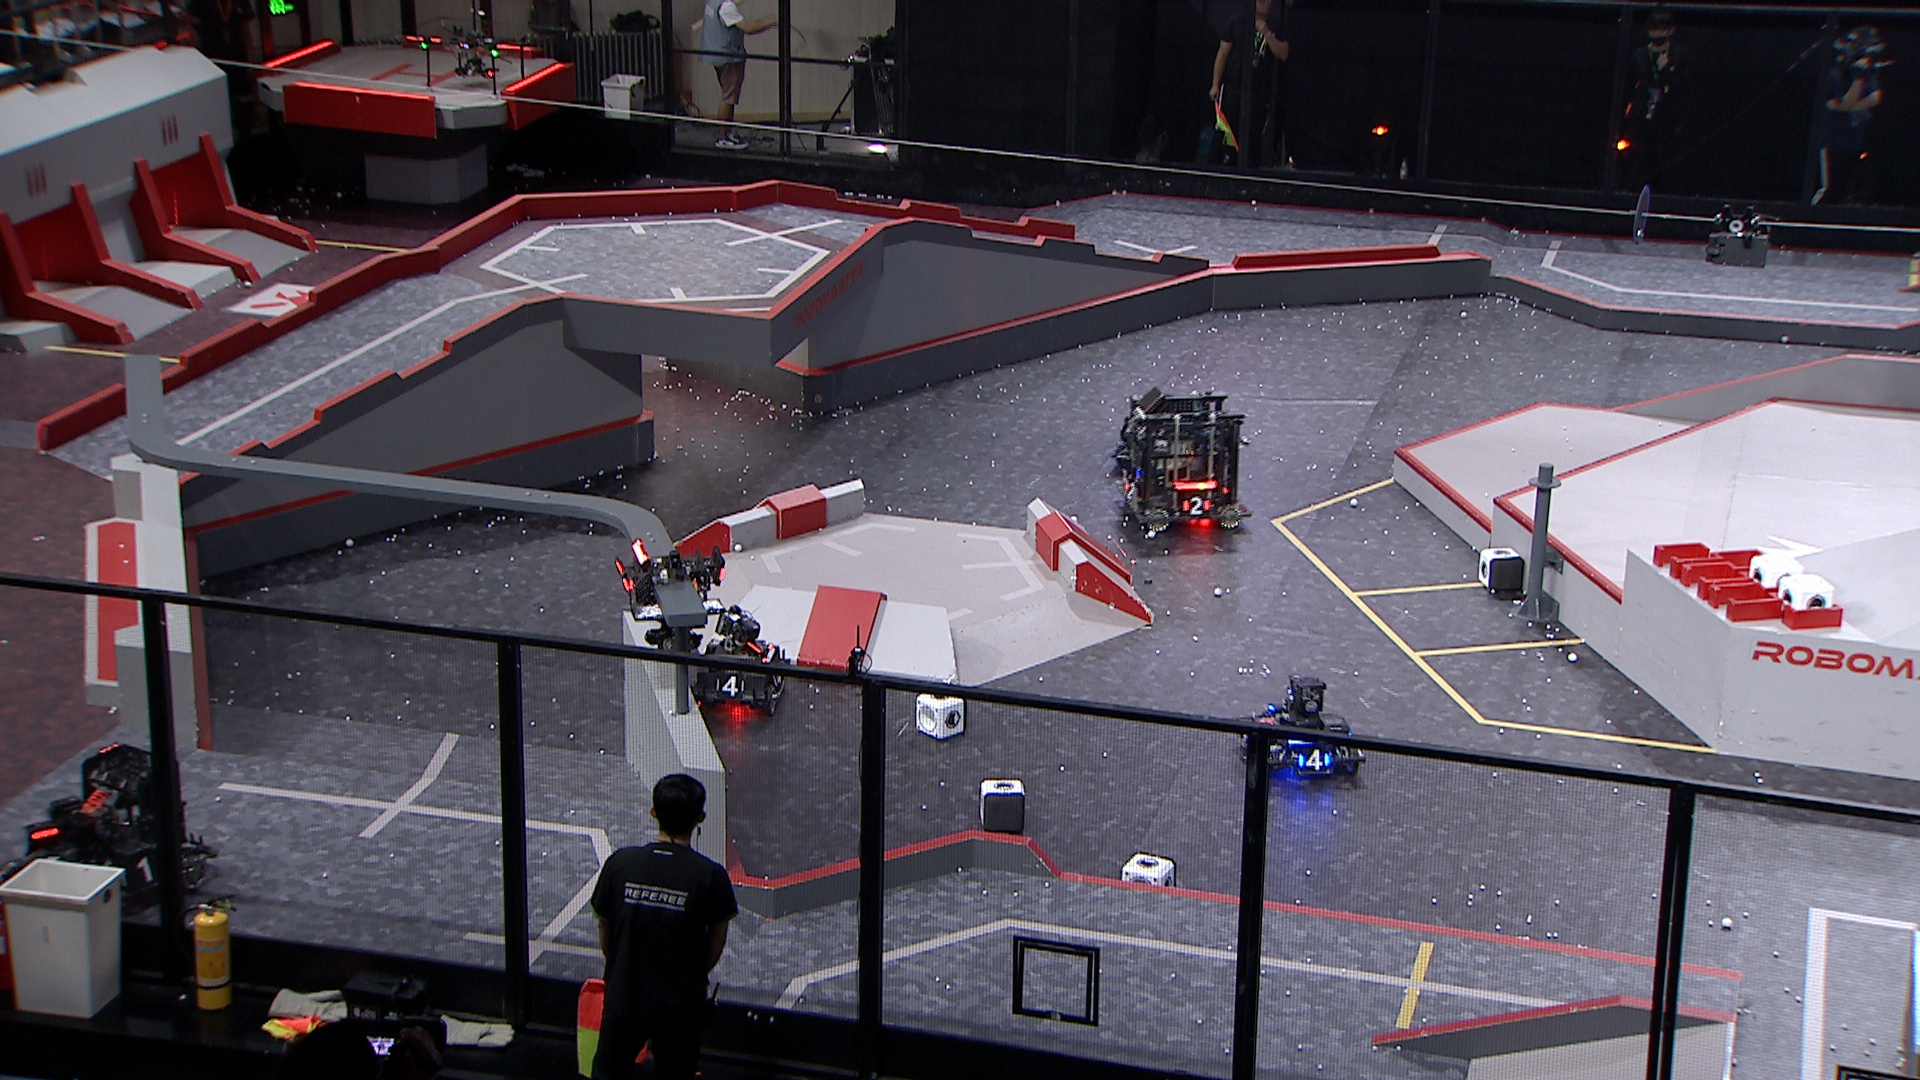armor: (119, 855, 157, 887), (1299, 749, 1335, 774), (713, 674, 746, 699), (613, 559, 636, 595), (1182, 496, 1215, 518), (1122, 481, 1139, 502)
car: (1110, 389, 1253, 534), (1236, 670, 1367, 781), (688, 608, 793, 717)
watcher: (613, 535, 727, 661)
